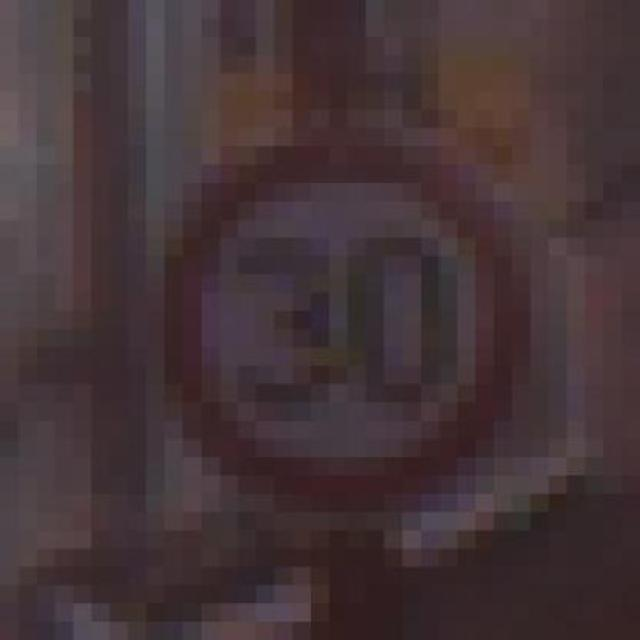Speed Limit 30 KMPh: (73, 128, 622, 568)
